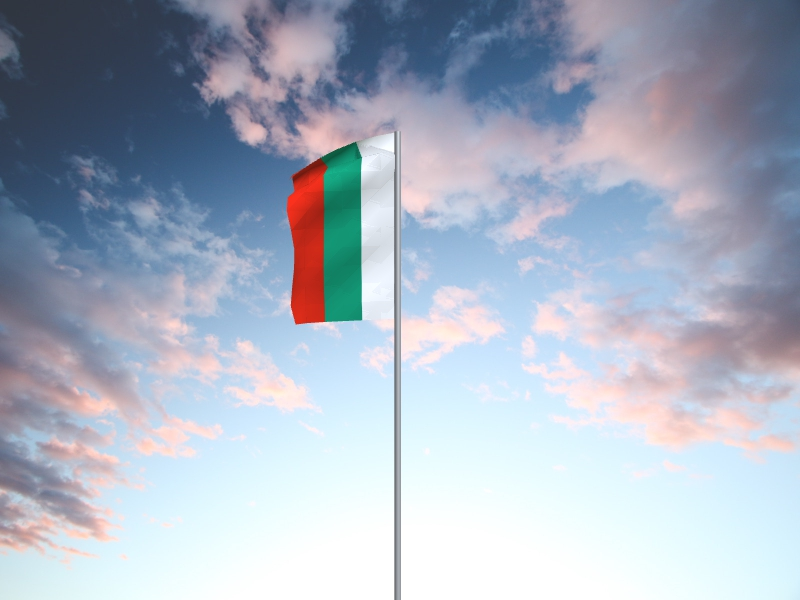bg: (286, 133, 395, 327)
